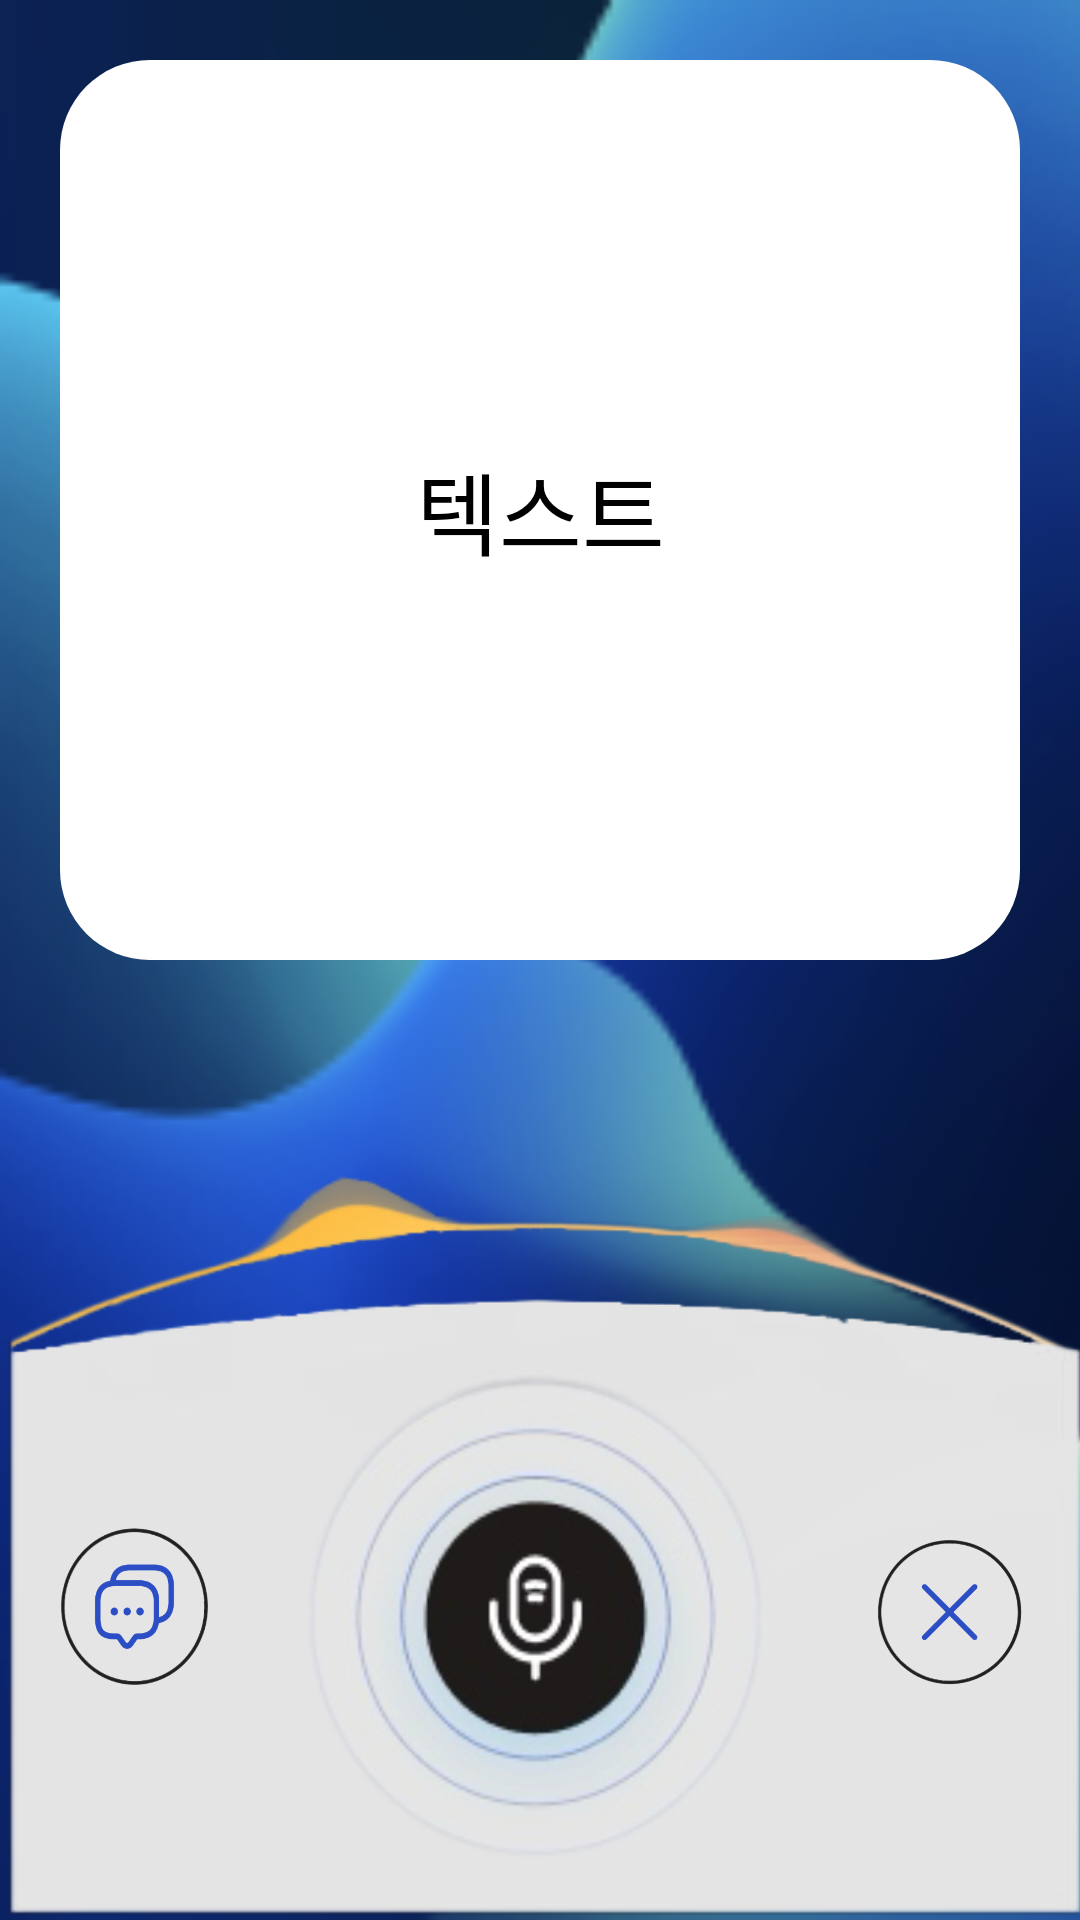

Locate icon controls on the screen. Image size 1080w x 1920h, boxes as (x1, y1, x2, y2).
delete: (878, 1540, 1022, 1684)
message: (61, 1528, 208, 1685)
